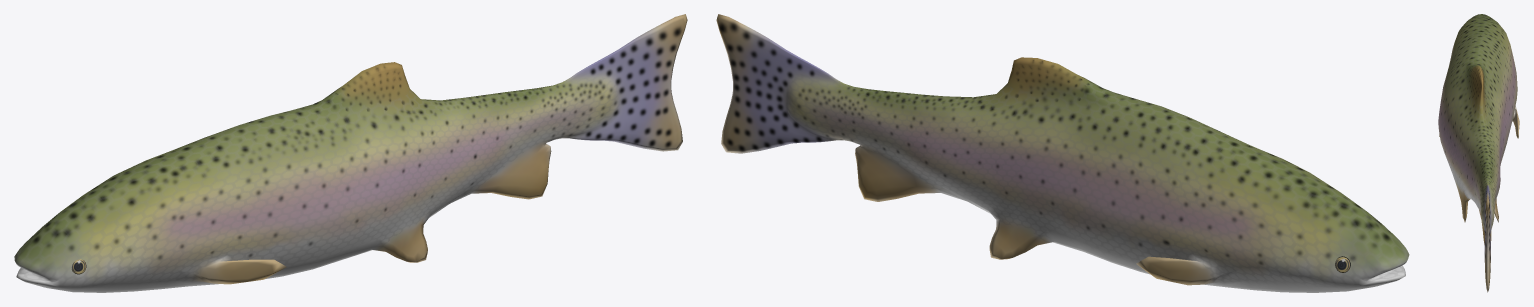
Rendered from trout.glb.
3 views of the same model, side by side, from view 1: azimuth 30°, elevation 25°; view 2: azimuth 150°, elevation 25°; view 3: azimuth 270°, elevation 25° (orthographic). The views are drawn at different scales.
Visible parts, largest first — view 1: Cat_bone; view 2: Cat_bone; view 3: Cat_bone.
Part boxes in pixels (<box>): Cat_bone: <box>14,14,687,292</box>; Cat_bone: <box>716,14,1409,292</box>; Cat_bone: <box>1438,14,1519,292</box>.
Size of the model in its own units: 1.08 by 0.3001 by 0.1591.
Materials: 2 (2 with a texture image).
